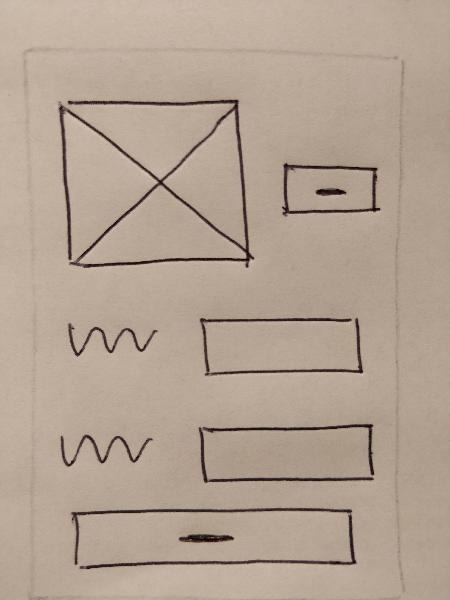button: (65, 503, 362, 579), (273, 145, 387, 225)
image: (50, 95, 261, 281)
text: (53, 421, 159, 486), (56, 311, 161, 371)
text_input: (193, 416, 381, 493), (194, 307, 371, 382)
